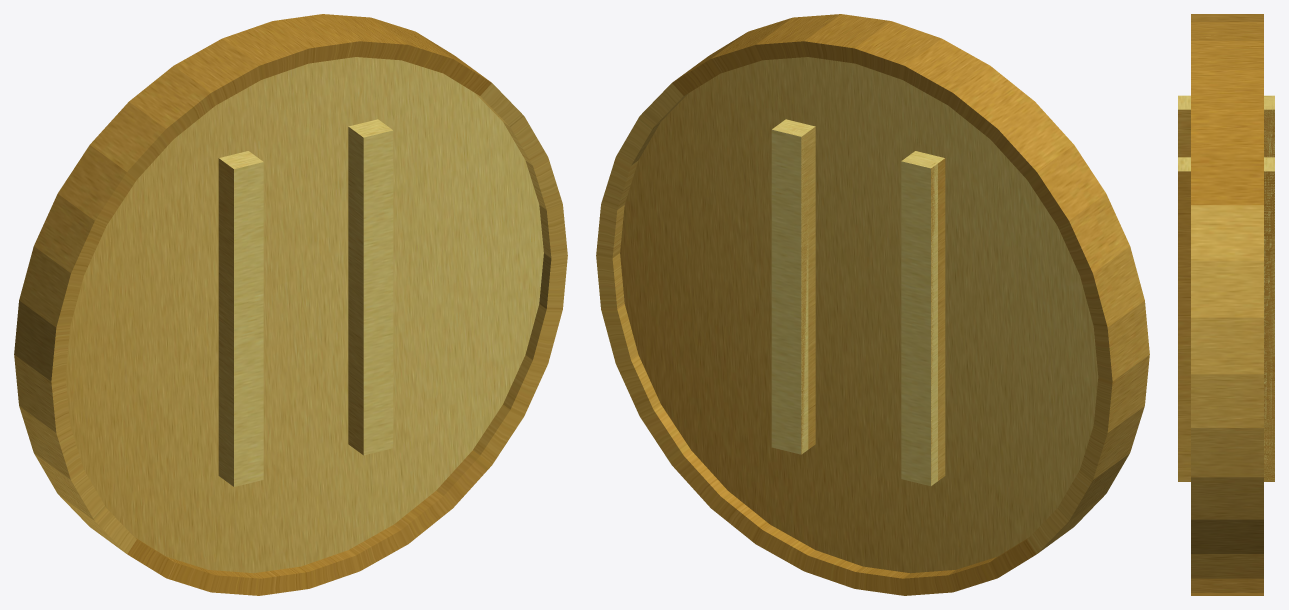
Rendered from Coin.fbx.
3 renders of one model, left to right at view 1: azimuth 30°, elevation 25°; view 2: azimuth 150°, elevation 25°; view 3: azimuth 270°, elevation 25°, orthographic. The views are drawn at different scales.
Visible parts, largest first — view 1: Cylinder; view 2: Cylinder; view 3: Cylinder.
Boxes of the visible parts, left/top/right/bottom form: Cylinder: left=14, top=14, right=567, bottom=595; Cylinder: left=596, top=14, right=1149, bottom=595; Cylinder: left=1178, top=14, right=1274, bottom=595.
Bounding box in the file's own units: 200 × 200 × 33.24.
